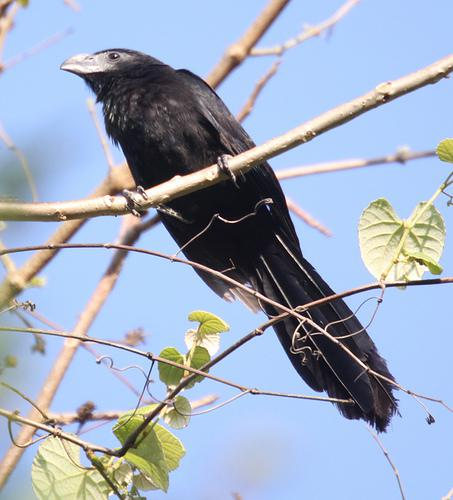004.Groove_billed_Ani: (60, 47, 401, 436)
